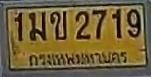1: (111, 8, 120, 38), (14, 12, 22, 40)
2: (75, 10, 89, 39)
7: (91, 9, 106, 38)
9: (126, 8, 140, 37)
A02: (49, 10, 66, 39)
A33: (28, 11, 45, 40)
BKK: (25, 50, 132, 68)
